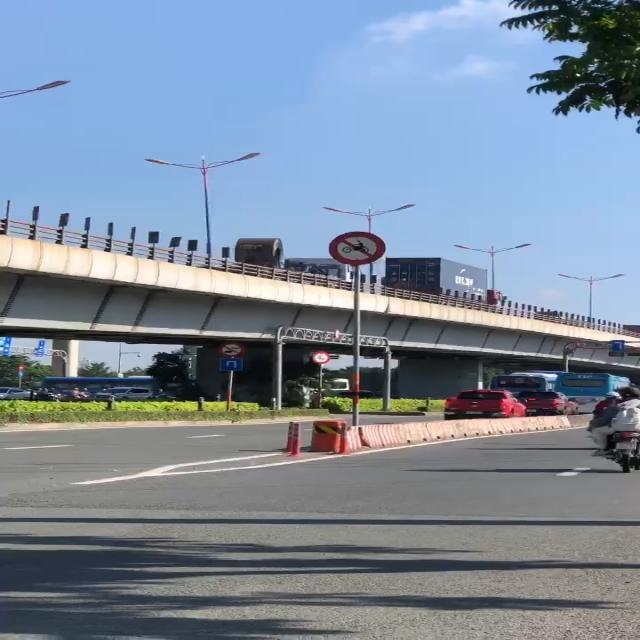Bien bao cam xe may: (328, 230, 389, 266)
Bien bao cam xe oto khach va xe oto tai: (220, 341, 248, 358)
